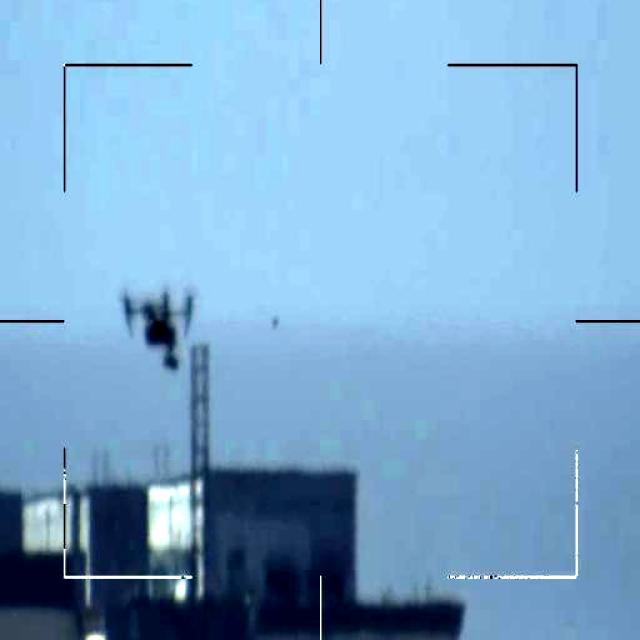bird: (121, 286, 199, 378)
